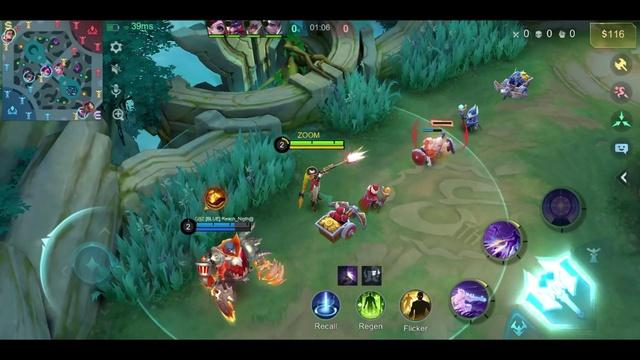Adc_Aliado: (5, 29, 18, 38)
Arbusto: (99, 133, 294, 303), (391, 20, 526, 91), (320, 70, 399, 134)
EXP_Lane: (91, 108, 106, 122)
Energia: (289, 144, 345, 150)
Esbirro_Aliado: (315, 202, 366, 242), (358, 184, 387, 211), (413, 140, 435, 165)
Esbirro_Enemigo: (494, 71, 533, 99), (458, 104, 478, 130), (433, 131, 453, 154)
Exp_Aliado: (77, 108, 89, 120)
Exp_Enemigo: (85, 102, 93, 110)
Franco: (196, 231, 283, 321)
Gold_Lane: (3, 19, 15, 32)
HP_Aliado: (195, 221, 251, 228)
HP_Heroe_Principal: (290, 140, 342, 144)
Hechizo_Batalla: (400, 289, 431, 320)
Jungla_Aliado: (22, 72, 35, 82)
Lesly: (298, 153, 362, 210)
Mana: (195, 226, 252, 233)
Mid_Aliado: (41, 65, 52, 78)
Mid_Enemigo: (54, 63, 66, 74)
Minimapa: (3, 19, 105, 120)
Roamer_Aliado: (2, 34, 14, 42)
Skill1: (450, 280, 491, 322)
Skill2: (483, 221, 520, 259)
